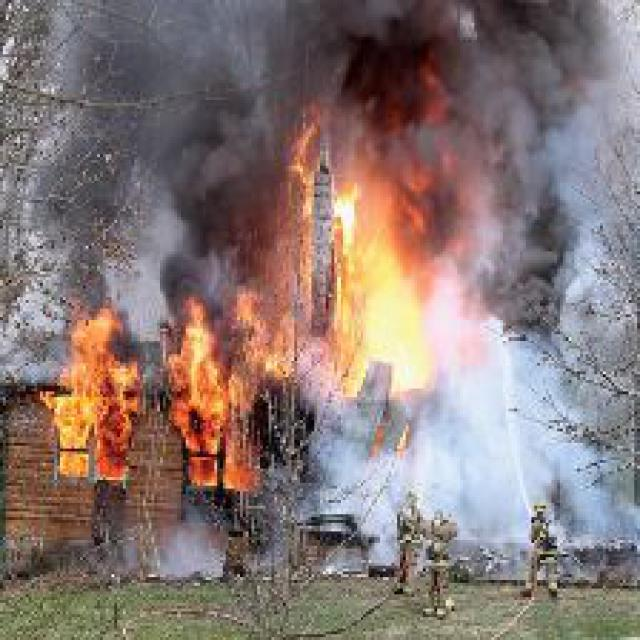fire: (317, 166, 446, 397), (154, 289, 286, 500), (40, 292, 149, 494)
